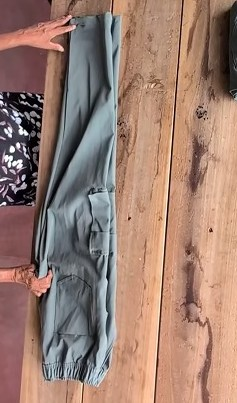TROUSER: (25, 34, 210, 362)
